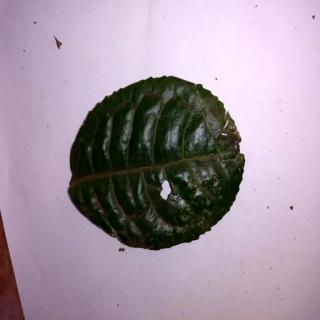Anthracnose: (68, 75, 248, 251)
